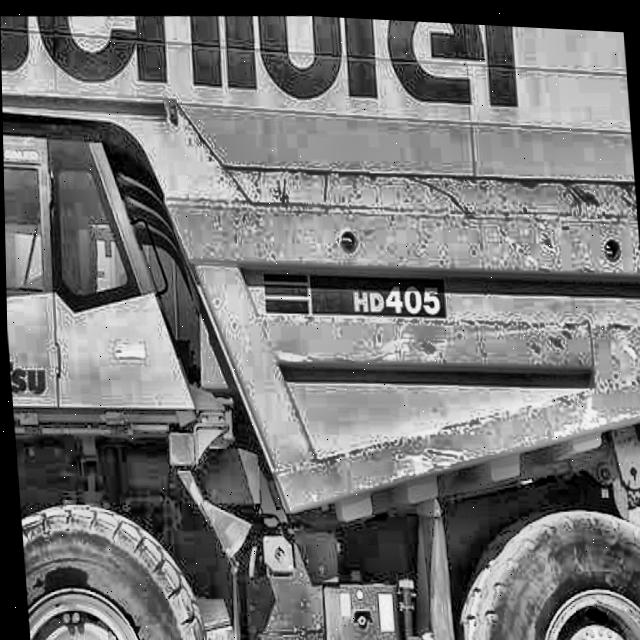dump_truck: (0, 20, 640, 640)
